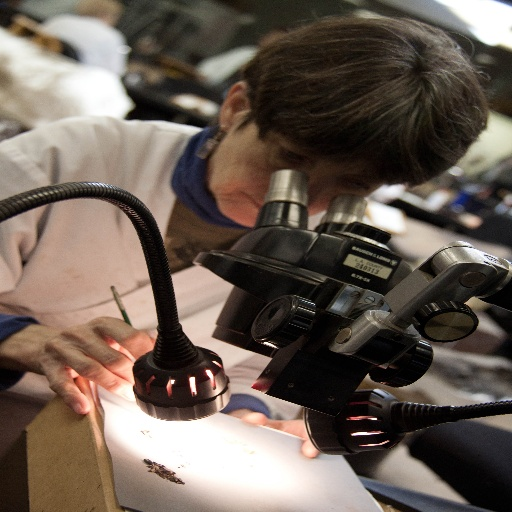hand: (28, 309, 140, 425), (238, 409, 322, 458)
